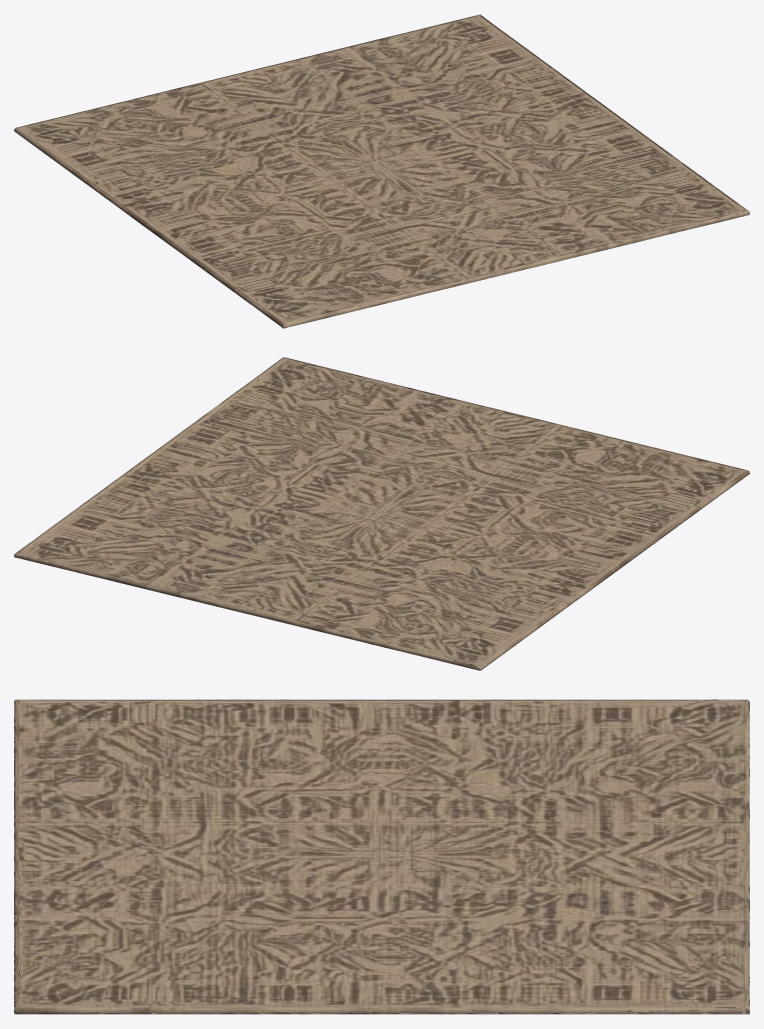
The model's file is area_rug.glb.
3 views of the same model, one above another, from view 1: azimuth 30°, elevation 25°; view 2: azimuth 150°, elevation 25°; view 3: azimuth 270°, elevation 25° (orthographic). The views are drawn at different scales.
Parts seen in each view (by area): view 1: geometry_0; view 2: geometry_0; view 3: geometry_0.
Part boxes in pixels (x1,y1,x2,y2): geometry_0: (14,14,749,328); geometry_0: (14,357,749,670); geometry_0: (14,699,749,1014).
Size of the model in its own units: 2.4 by 0.0225 by 2.4.
1 material, 1 textured.
